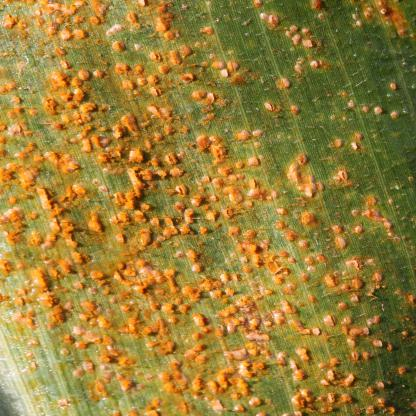Corn rust leaf: (3, 0, 416, 416)
